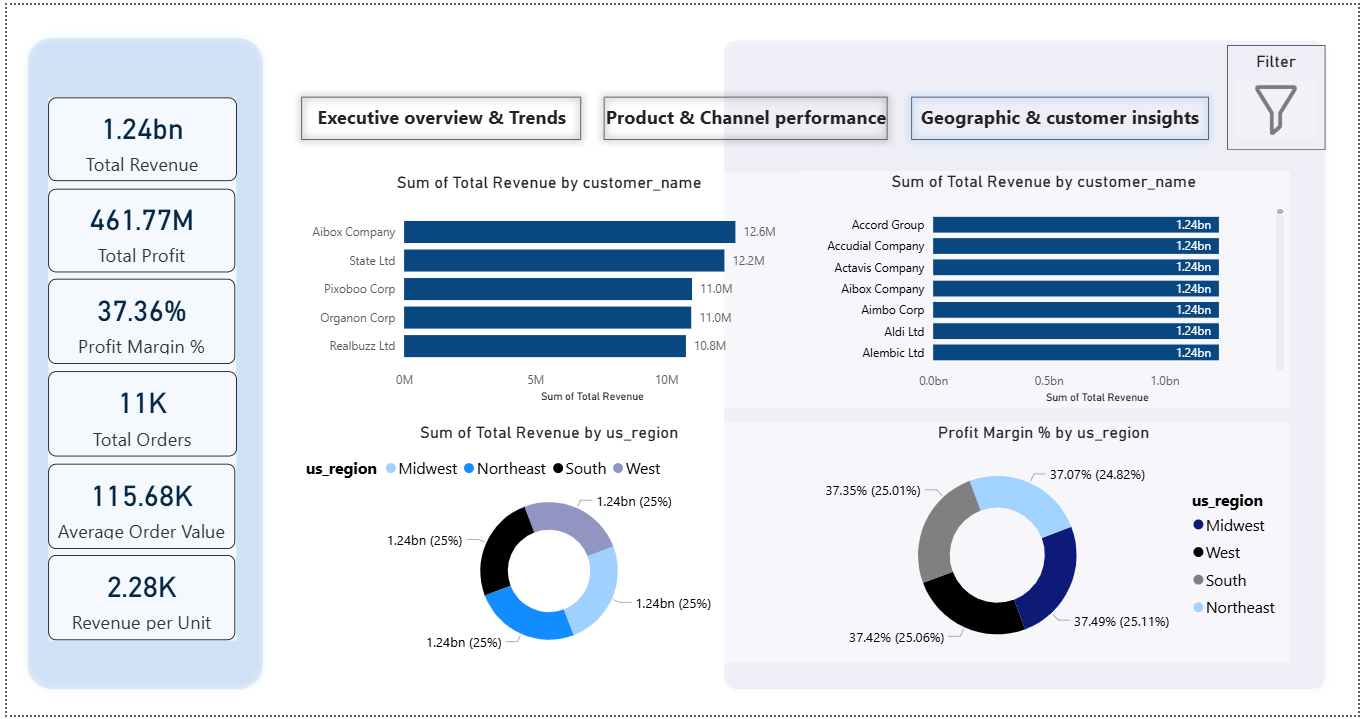

What the dashboard file says about the page in this screenshot:
{"tool":"powerbi","page":{"name":"Geographic & customer insights","canvas":[1370,720],"ordinal":2},"visuals":[{"type":"shape","box":[718,26,628,676],"z":0},{"type":"card","fields":{"Values":["Query1.Total Orders"]},"box":[42.2,371.6,190.8,86.4],"z":0,"group":"g1"},{"type":"barChart","fields":{"Y":["Sum(Customer_Summary.Total Revenue)"],"Category":["Customer_Summary.customer_name"]},"box":[298,170,504,238],"z":1000},{"type":"card","fields":{"Values":["Query1.Profit Margin %"]},"box":[42.2,278.2,189.5,86.4],"z":1000,"group":"g1"},{"type":"image","title":"Filter","box":[1245.4,47.4,81.7,95],"z":2000},{"type":"card","fields":{"Values":["Query1.Total Profit"]},"box":[42.2,186.2,189.5,85.1],"z":2000,"group":"g1"},{"type":"card","fields":{"Values":["Query1.Total Revenue"]},"box":[42.2,94.1,190.8,85.1],"z":3000,"group":"g1"},{"type":"donutChart","fields":{"Category":["Sales_data(EDA Exported).us_region"],"Y":["Sum(Product_Summary.Total Revenue)"]},"box":[298,424,504,244],"z":3000},{"type":"textbox","box":[302.4,96.7,276,44],"z":4000},{"type":"card","fields":{"Values":["Query1.Average Order Value"]},"box":[42.2,464.9,189.5,86.4],"z":4000,"group":"g1"},{"type":"barChart","fields":{"Y":["Sum(Customer_Summary.Total Revenue)"],"Category":["Sales_data(EDA Exported).customer_name"]},"box":[802,168,498,240],"z":5000},{"type":"card","fields":{"Values":["Query1.Revenue per Unit"]},"box":[42.2,558.2,189.5,86.4],"z":5000,"group":"g1"},{"type":"textbox","box":[594.4,96.7,310,38],"z":6000},{"type":"textbox","box":[908.4,96.7,318,44],"z":8000},{"type":"actionButton","box":[908.4,84.7,318,60],"z":9000},{"type":"shape","box":[12.1,25.8,254.8,676.5],"z":10000},{"type":"group","id":"g1","title":"Group 1","box":[42.2,94.1,190.8,550.5],"z":11000},{"type":"actionButton","box":[290.4,84.7,300,60],"z":12000},{"type":"actionButton","box":[596.4,84.7,304,60],"z":13000},{"type":"actionButton","box":[1236.7,40,100,106.7],"z":14000},{"type":"donutChart","fields":{"Y":["Query1.Profit Margin %"],"Category":["Sales_data(EDA Exported).us_region"]},"box":[802,424,498,244],"z":16500}]}

Visuals, with their boxes in screenshot pixels (x1, y1, x2, y2), scaled from the page's 1370x720 canvas onto the 1363x719 screenshot:
shape: bbox=[714, 26, 1339, 701]
card - Query1.Total Orders: bbox=[42, 371, 232, 457]
barChart - Sum(Customer_Summary.Total Revenue) x Customer_Summary.customer_name: bbox=[296, 170, 798, 407]
card - Query1.Profit Margin %: bbox=[42, 278, 231, 364]
"Filter" image: bbox=[1239, 47, 1320, 142]
card - Query1.Total Profit: bbox=[42, 186, 231, 271]
card - Query1.Total Revenue: bbox=[42, 94, 232, 179]
donutChart - Sales_data(EDA Exported).us_region x Sum(Product_Summary.Total Revenue): bbox=[296, 423, 798, 667]
textbox: bbox=[301, 97, 575, 141]
card - Query1.Average Order Value: bbox=[42, 464, 231, 551]
barChart - Sum(Customer_Summary.Total Revenue) x Sales_data(EDA Exported).customer_name: bbox=[798, 168, 1293, 407]
card - Query1.Revenue per Unit: bbox=[42, 557, 231, 644]
textbox: bbox=[591, 97, 900, 135]
textbox: bbox=[904, 97, 1220, 141]
actionButton: bbox=[904, 85, 1220, 144]
shape: bbox=[12, 26, 266, 701]
"Group 1" group: bbox=[42, 94, 232, 644]
actionButton: bbox=[289, 85, 587, 144]
actionButton: bbox=[593, 85, 896, 144]
actionButton: bbox=[1230, 40, 1330, 146]
donutChart - Query1.Profit Margin % x Sales_data(EDA Exported).us_region: bbox=[798, 423, 1293, 667]
